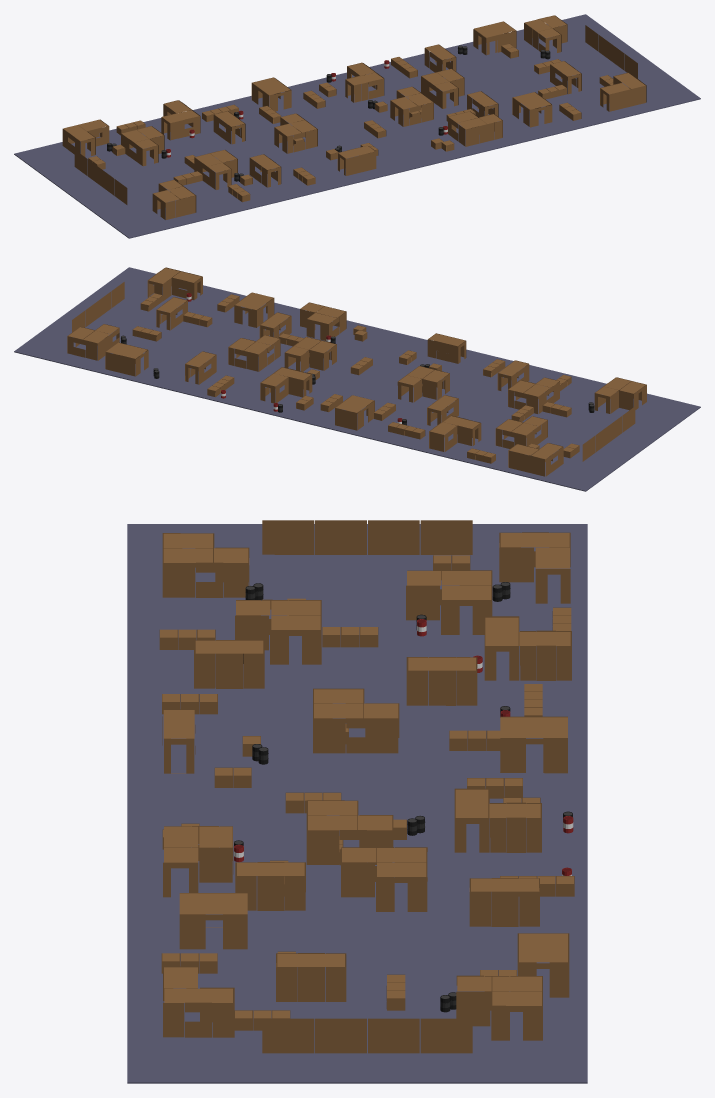
Rendered from collider.obj.
3 views of the same model, one above another, from view 1: azimuth 30°, elevation 25°; view 2: azimuth 150°, elevation 25°; view 3: azimuth 270°, elevation 25° (orthographic). The views are drawn at different scales.
Visible parts, largest first — view 1: Cube_New_Material_0, Plane_034_Material_153_0, Plane_034_Material_191_0; view 2: Cube_New_Material_0, Plane_034_Material_153_0, Plane_034_Material_191_0; view 3: Cube_New_Material_0, Plane_034_Material_153_0, Plane_034_Material_191_0.
Boxes of the visible parts, x1,y1,x2,y2 form: Cube_New_Material_0: [14, 14, 700, 238]; Plane_034_Material_153_0: [62, 15, 646, 219]; Plane_034_Material_191_0: [107, 45, 550, 181]; Cube_New_Material_0: [14, 267, 700, 491]; Plane_034_Material_153_0: [67, 267, 646, 476]; Plane_034_Material_191_0: [121, 335, 594, 456]; Cube_New_Material_0: [127, 524, 587, 1083]; Plane_034_Material_153_0: [159, 520, 574, 1053]; Plane_034_Material_191_0: [234, 582, 572, 1012].
Size of the model in its own units: 200 by 6.18 by 69.75.
